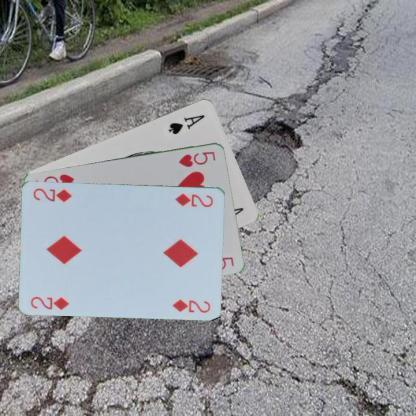2d: (172, 190, 214, 208), (28, 293, 70, 311)
5h: (176, 148, 217, 168)
As: (166, 112, 206, 136)
